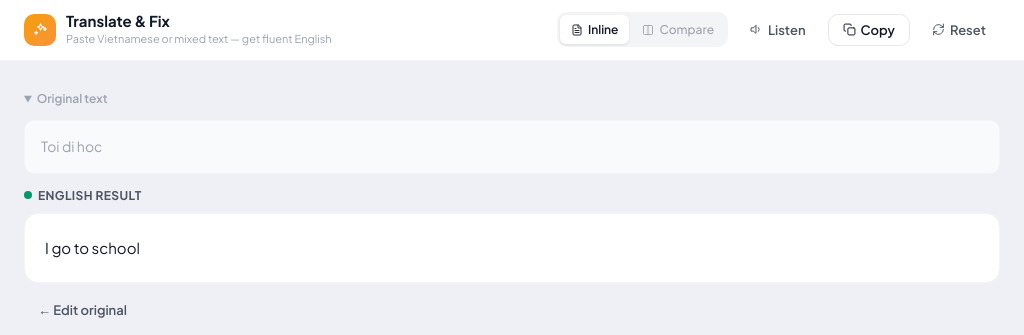
it: EditorPage compare view toggle › switches to the compare view showing original and corrected side by side
What coordinates should you click on to do the following:
click the button "Compare"
I would click on:
 (678, 30)
Its box is x1=632 y1=15 x2=725 y2=44.
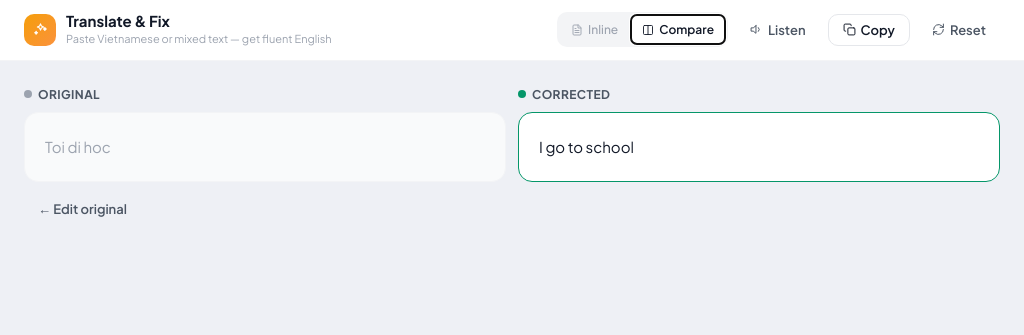
Expected: the text "Original" is shown, x1=38 y1=85 x2=100 y2=104
Now the text "Corrected" is shown, box x1=532 y1=85 x2=610 y2=104
